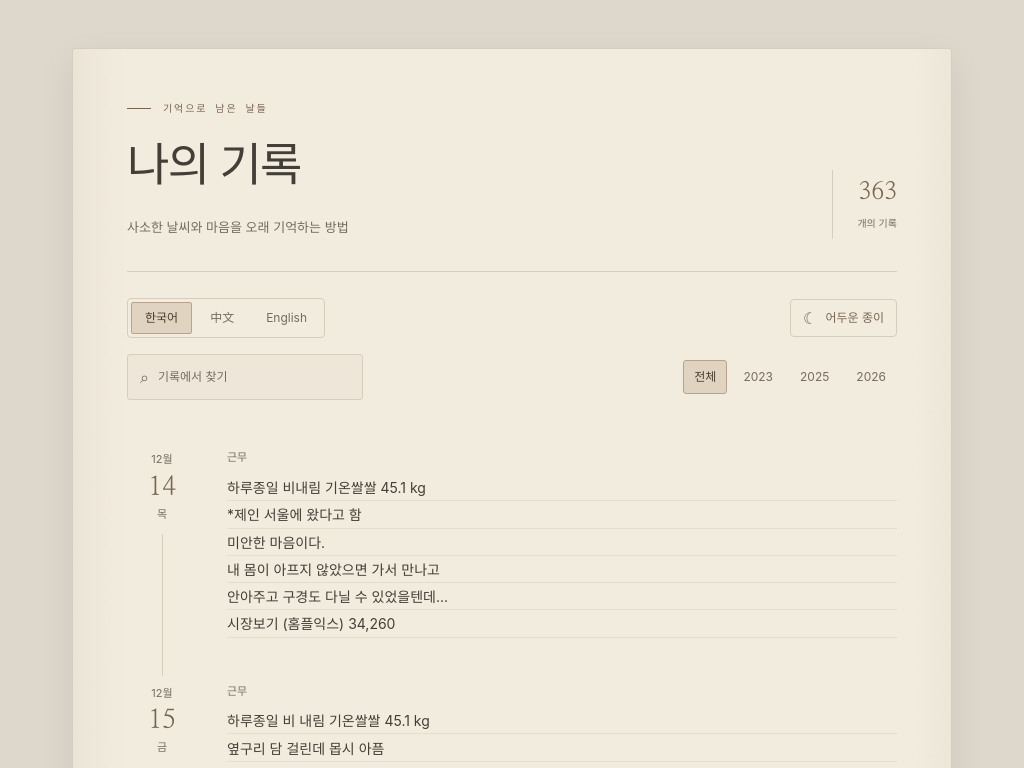
it: starts with light paper and supports English without losing filters or theme
Click the button "2023" at (758, 378), box [732,360,784,394]
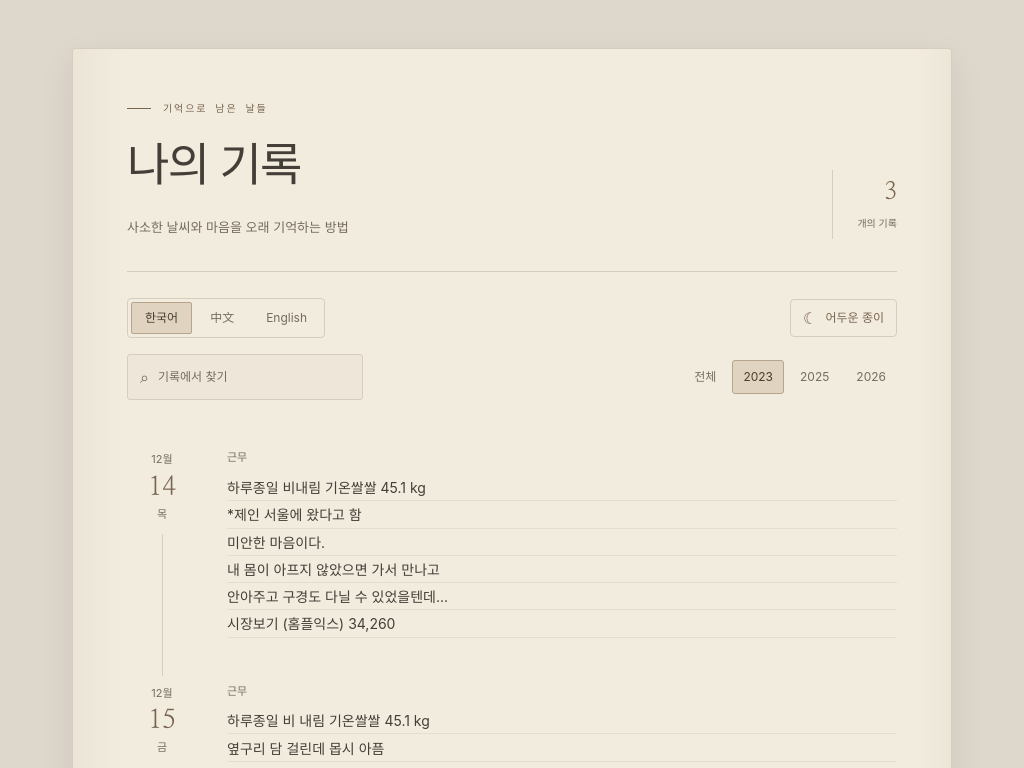
Click the button "English" at (287, 318), box [252,302,321,334]
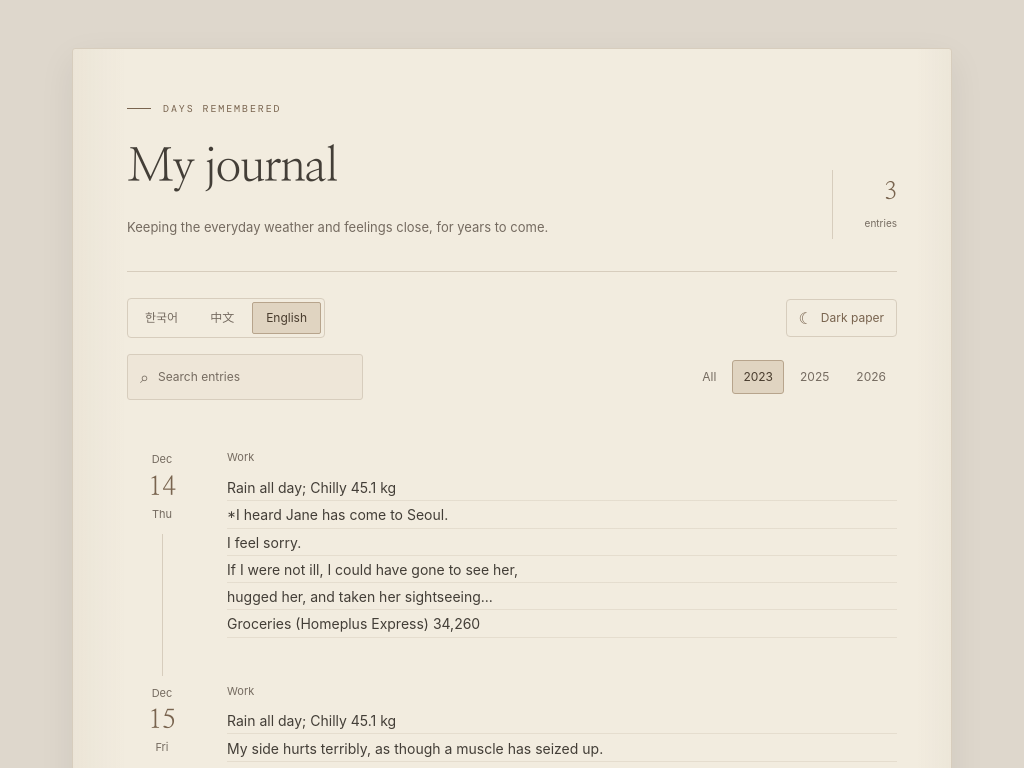
expect the heading "My journal" is shown: met, box [127,144,337,190]
Type "muscle" into the field named "Search entries" at (254, 378), box [158,368,350,386]
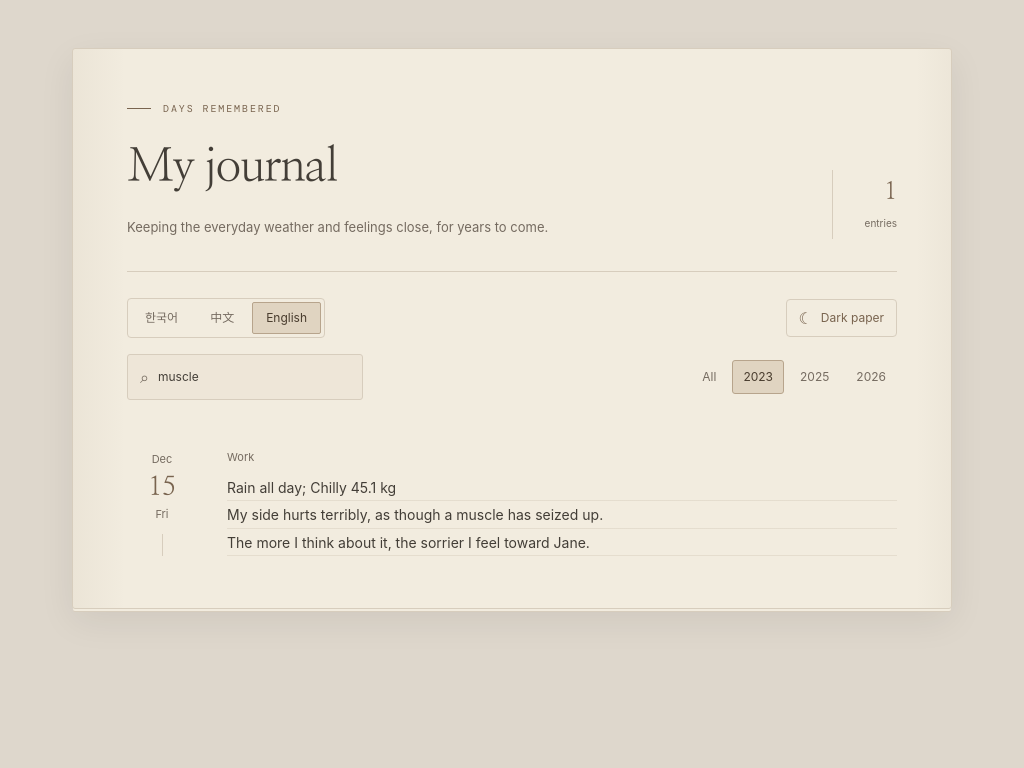
expect the text "My side hurts terribly" has attribute lang="en": met, box [227,474,897,556]
Click the button named "Dark theme" at (841, 318), box [786,300,897,338]
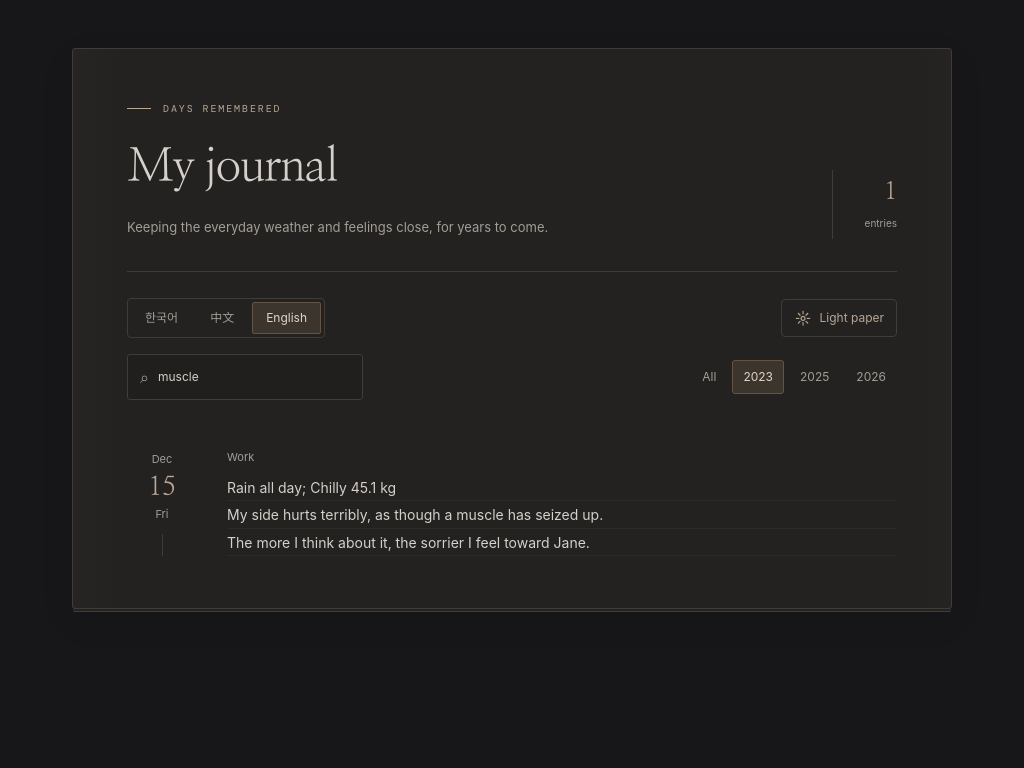
expect the element that starts with "DAYS REMEMBERED" has attribute data-theme="dark": met
Click the button "中文" at (222, 318), box [196,302,248,334]
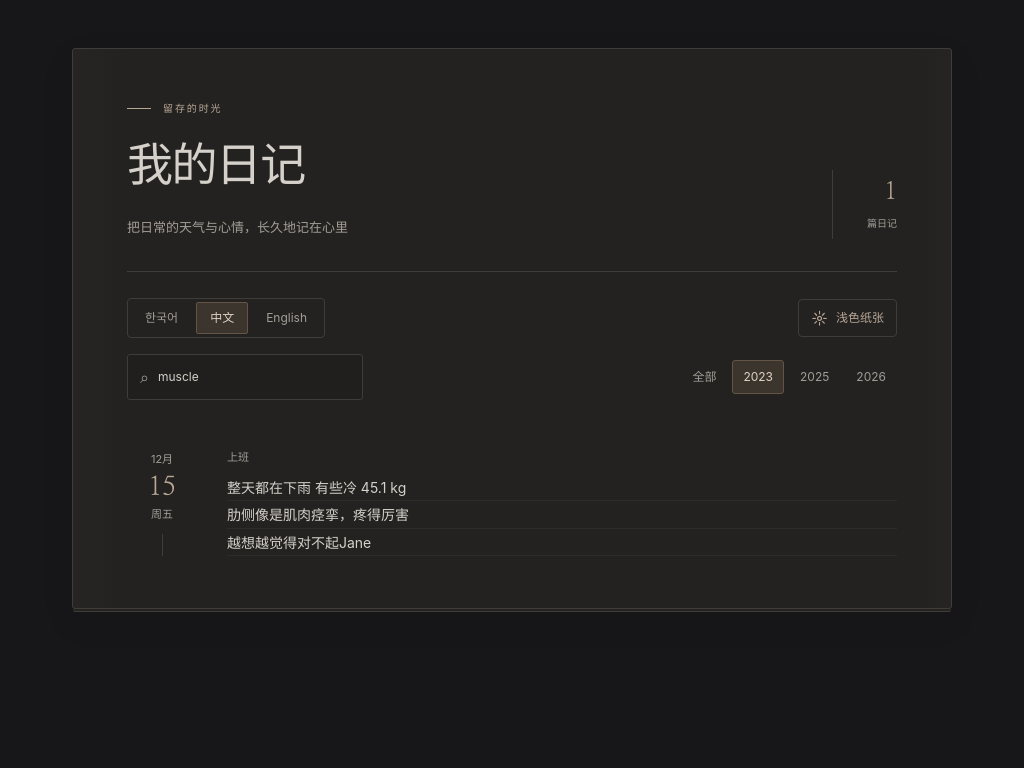
expect the text "整天都在下雨 有些冷 45.1 kg 肋侧像是肌肉痉挛，疼得厉害 越想越觉得对不起Jane" is shown: met, box [227,474,897,556]
